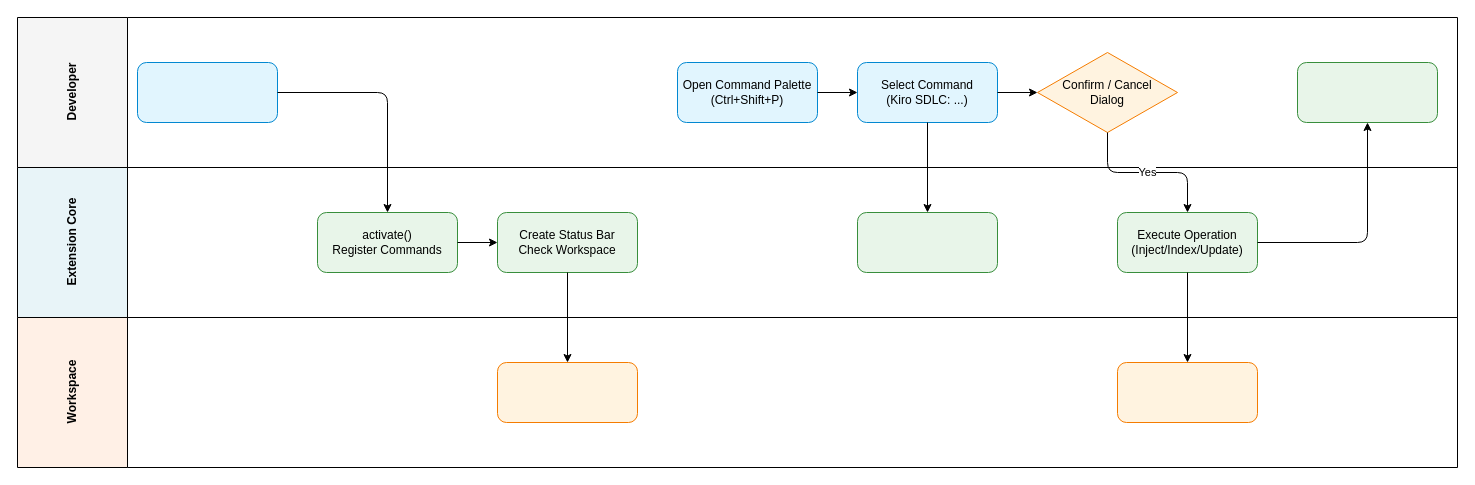
The diagram is 1475 pixels wide and 485 high, and some of its shapes have lost their labels. The centre of each missing label's shape, as x and y in pixels:
Files Copied / Index Generated: point 1187,392
Open VS Code / Kiro: point 207,92
Route to Command Handler: point 927,242
Status Bar Updated (✓ or ⚠): point 567,392
View Success Message: point 1367,92
